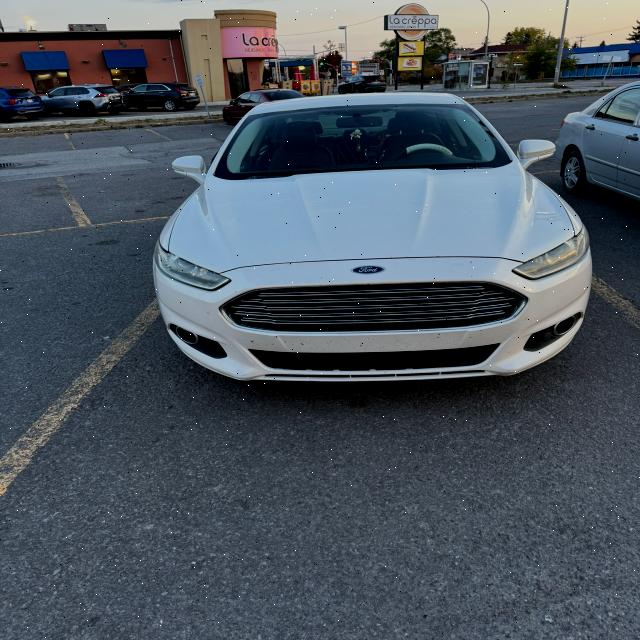plaque: (27, 99, 34, 102)
